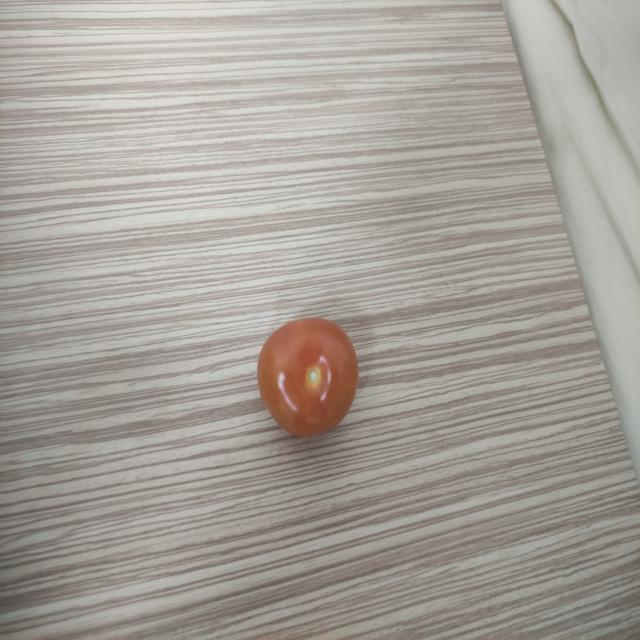sari: (249, 314, 379, 452)
